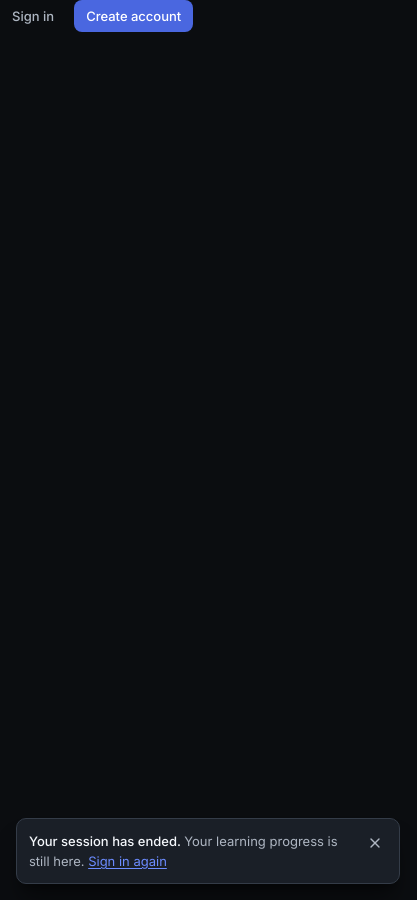
Scenario: AccountControls › tells a learner whose session ended on its own
The width and height of the screenshot is (417, 900).
Expected: the message with test id "session-expired" shows "Your session has ended", [29,833,184,849]
Click the button named "Dismiss". click: {"x": 375, "y": 843}
box: [359,827,391,859]
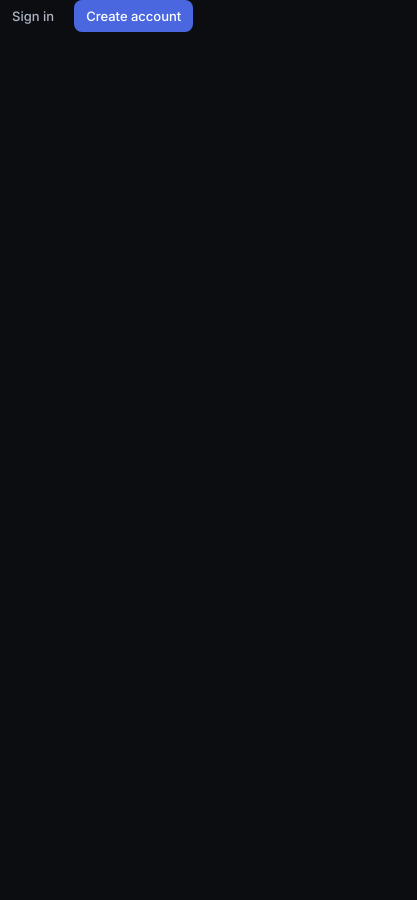
Now the message with test id "session-expired" is gone
